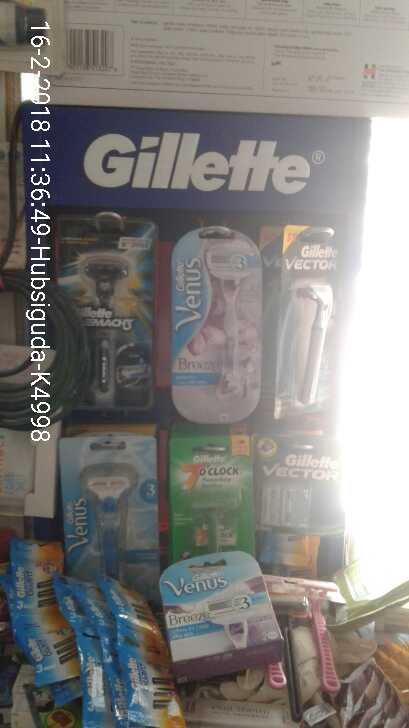beauty: (167, 225, 263, 429), (58, 232, 146, 410), (152, 553, 283, 667), (272, 216, 346, 411), (158, 436, 269, 559), (56, 433, 161, 558), (262, 434, 346, 569), (104, 574, 172, 728), (16, 617, 75, 697), (3, 540, 65, 615)
